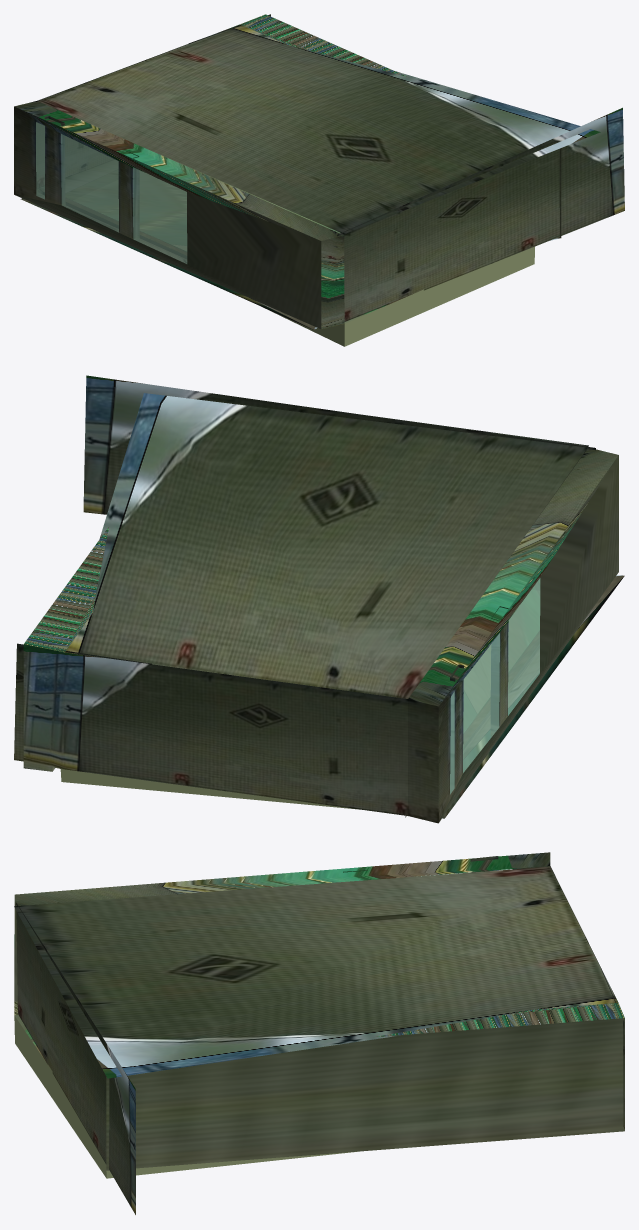
The model's file is liminal-space-new.glb.
The picture shows the model from 3 angles, top to bottom: view 1: azimuth 30°, elevation 25°; view 2: azimuth 150°, elevation 25°; view 3: azimuth 270°, elevation 25°; orthographic projection. The views are drawn at different scales.
Parts seen in each view (by area): view 1: Object_6, Object_2, Object_4, Object_3; view 2: Object_6, Object_2, Object_3, Object_4; view 3: Object_6, Object_2, Object_4.
Part boxes in pixels (x1,y1,x2,y2): Object_6: (14,14,624,329); Object_2: (15,148,561,329); Object_4: (66,165,534,346); Object_3: (36,122,187,263); Object_6: (14,375,618,823); Object_2: (52,455,624,820); Object_3: (450,578,540,794); Object_4: (60,580,539,809); Object_6: (14,852,624,1214); Object_2: (14,908,624,1170); Object_4: (14,1015,359,1178).
Bounding box in the file's own units: 43.8 × 11.73 × 43.62.
5 materials, 3 textured.
